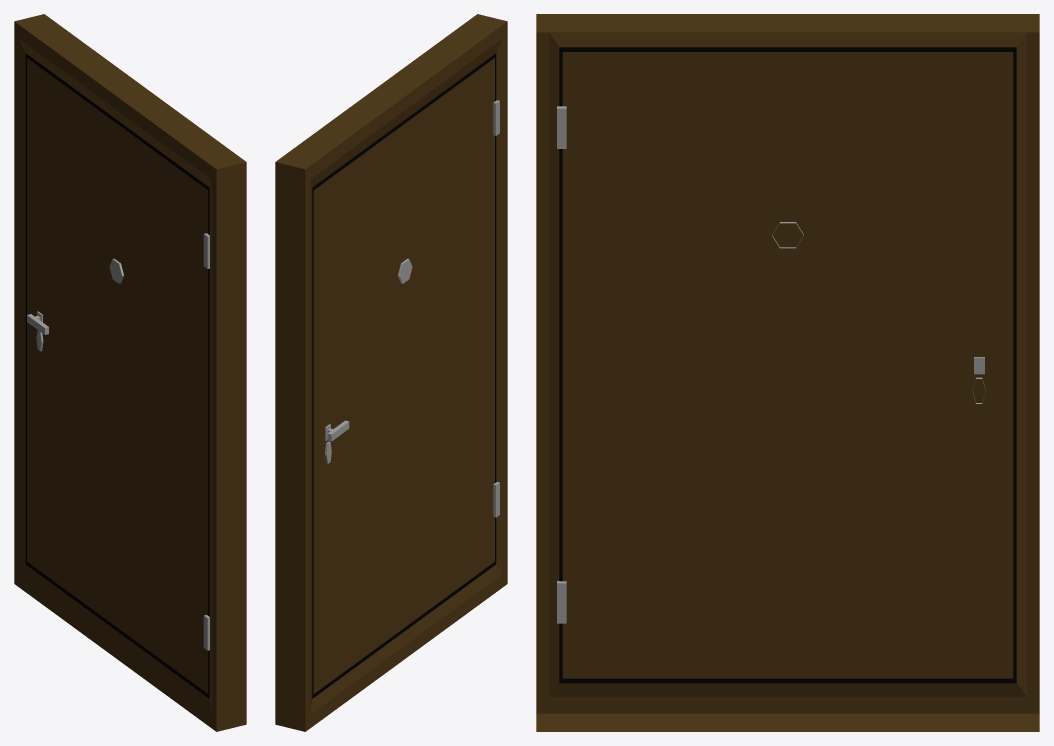
The model's file is Door 3.fbx.
3 views of the same model, side by side, from view 1: azimuth 30°, elevation 25°; view 2: azimuth 150°, elevation 25°; view 3: azimuth 270°, elevation 25° (orthographic). The views are drawn at different scales.
Parts seen in each view (by area): view 1: Door 1; view 2: Door 1; view 3: Door 1.
Boxes of the visible parts, x1,y1,x2,y2 form: Door 1: [14, 14, 246, 731]; Door 1: [275, 14, 507, 731]; Door 1: [536, 14, 1039, 731].
Bounding box in the file's own units: 17.58 × 256 × 167.
